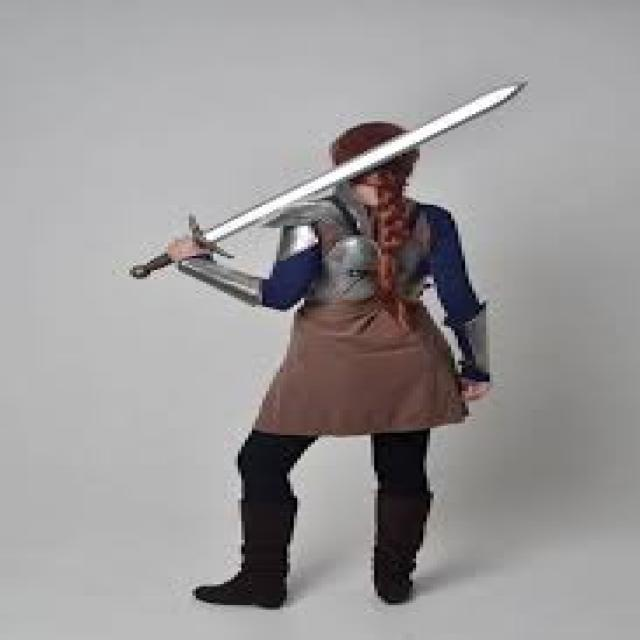long sword: (129, 77, 531, 287)
